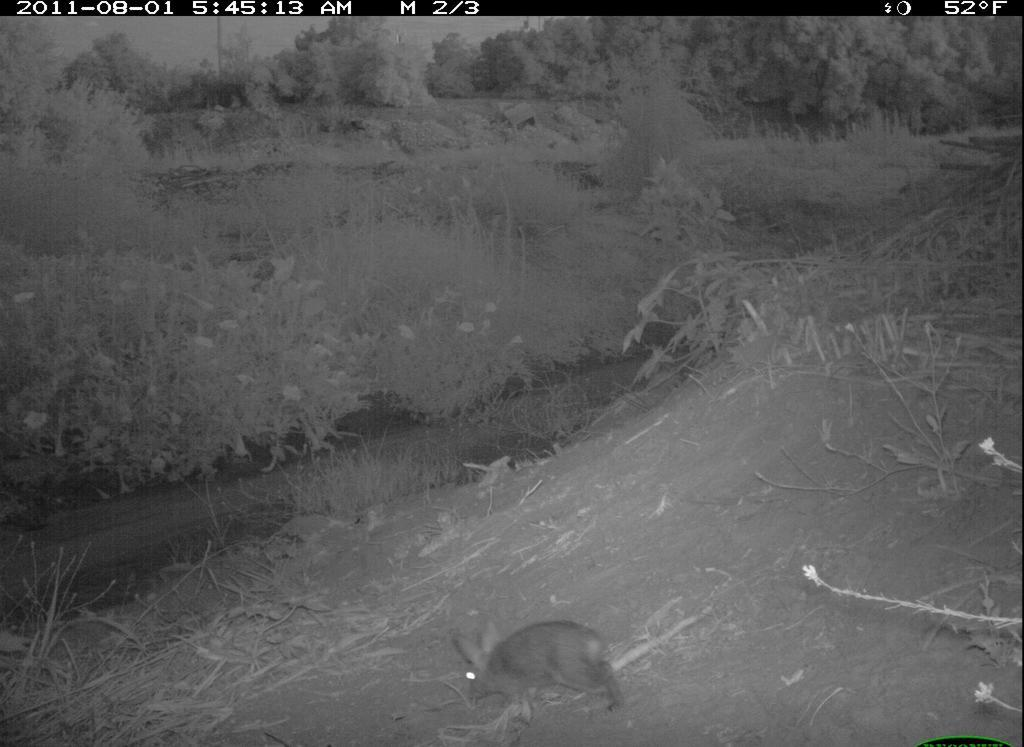rabbit: (455, 606, 635, 730)
